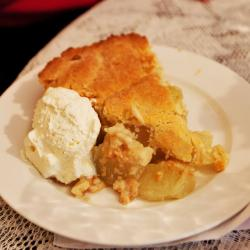apple_pie: (47, 46, 226, 199)
icecream: (18, 88, 102, 187)
